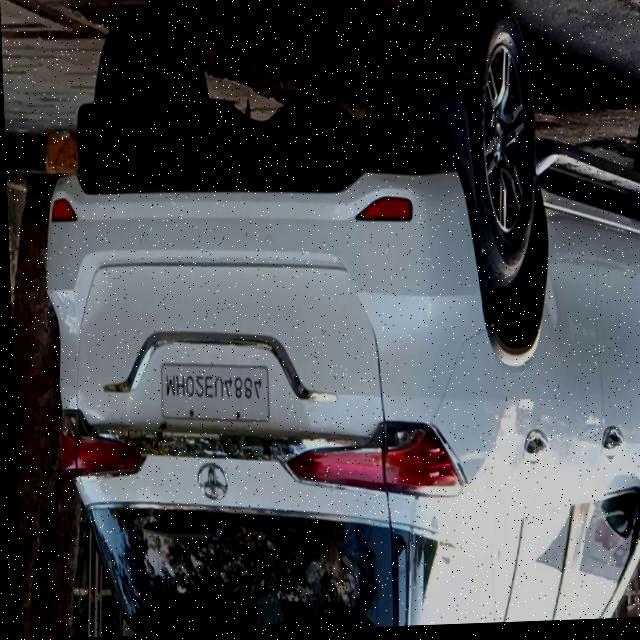plate: (156, 363, 267, 430)
